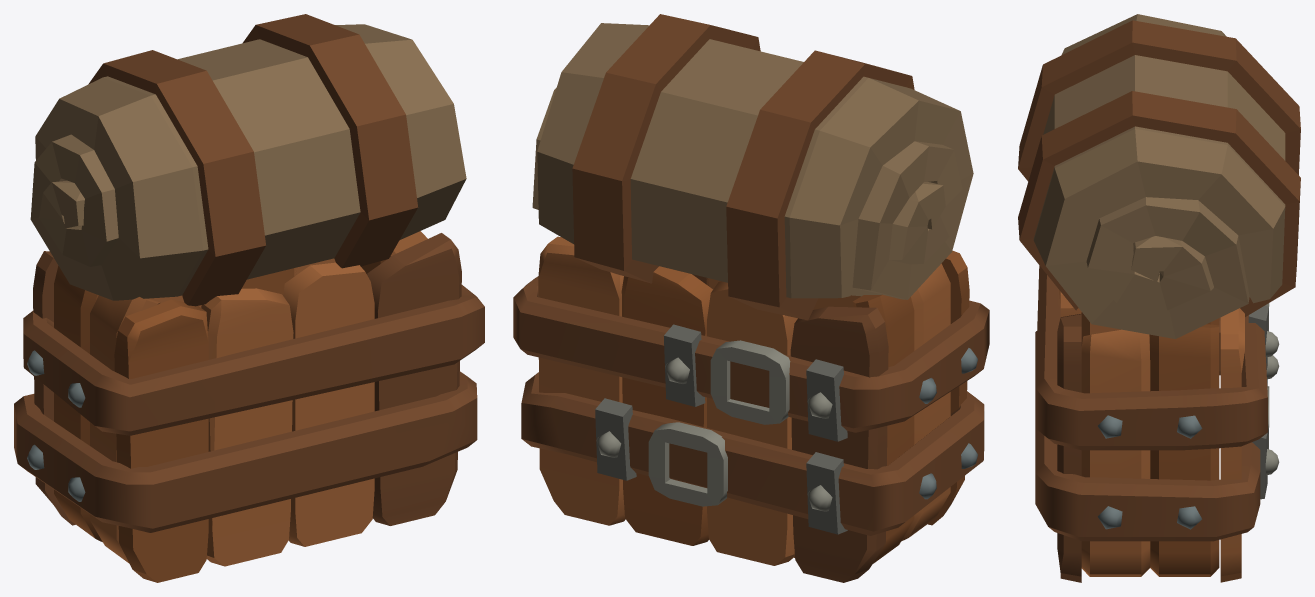
Rendered from Bag_6.fbx.
The picture shows the model from 3 angles, left to right: view 1: azimuth 30°, elevation 25°; view 2: azimuth 150°, elevation 25°; view 3: azimuth 270°, elevation 25°; orthographic projection. The views are drawn at different scales.
Parts seen in each view (by area): view 1: Bag_6; view 2: Bag_6; view 3: Bag_6.
Part boxes in pixels (box(x1,y1,x2,y2)): Bag_6: box(14, 14, 484, 582); Bag_6: box(513, 14, 989, 582); Bag_6: box(1018, 14, 1300, 582).
Size of the model in its own units: 53.33 by 59.55 by 33.99.
